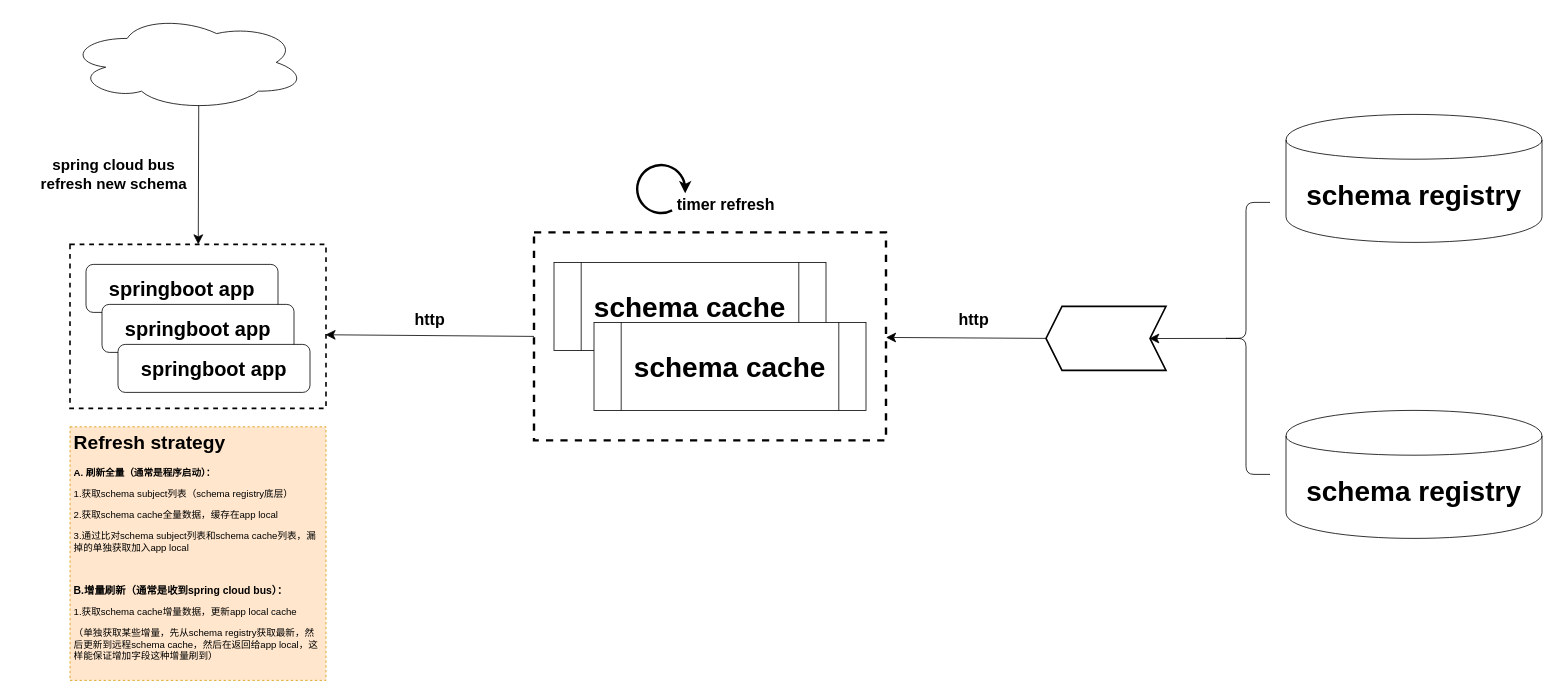
This 1556x694 diagram has some shape labels left out. The centre of each missing label's shape, as x and y in pixels:
kafka cluster: the point at 186,62
nginx: the point at 1105,338
